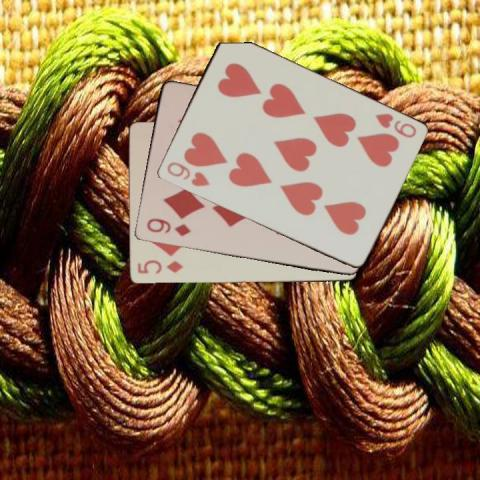5d: (134, 257, 184, 276)
9d: (143, 215, 192, 238)
9h: (163, 158, 211, 188), (371, 110, 418, 139)
